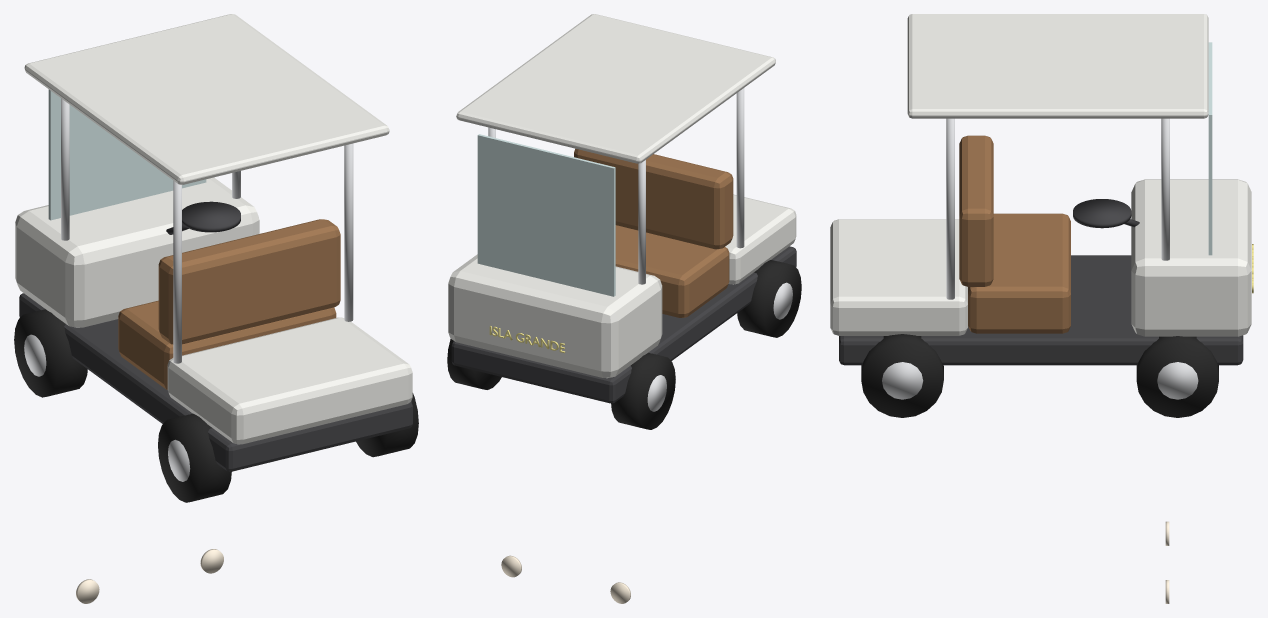
The model's file is GolfCart.fbx.
3 renders of one model, left to right at view 1: azimuth 30°, elevation 25°; view 2: azimuth 150°, elevation 25°; view 3: azimuth 270°, elevation 25°, orthographic. The views are drawn at different scales.
Parts seen in each view (by area): view 1: GolfCart_LOD0; view 2: GolfCart_LOD0; view 3: GolfCart_LOD0.
Part boxes in pixels (x1,y1,x2,y2): GolfCart_LOD0: (14, 14, 418, 603); GolfCart_LOD0: (447, 14, 801, 603); GolfCart_LOD0: (830, 14, 1253, 603).
Size of what is drawn, in the model's own units: 1.41 by 3.29 by 2.46.
